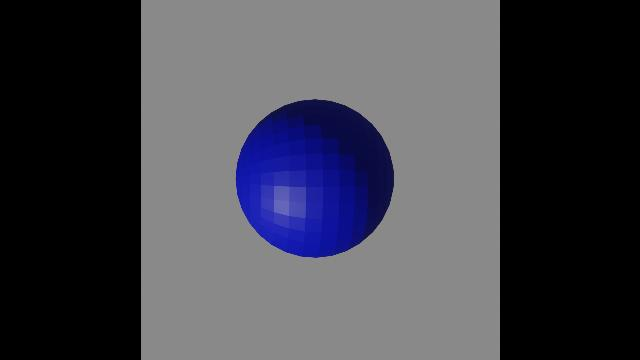Sphere: (230, 89, 396, 269)
